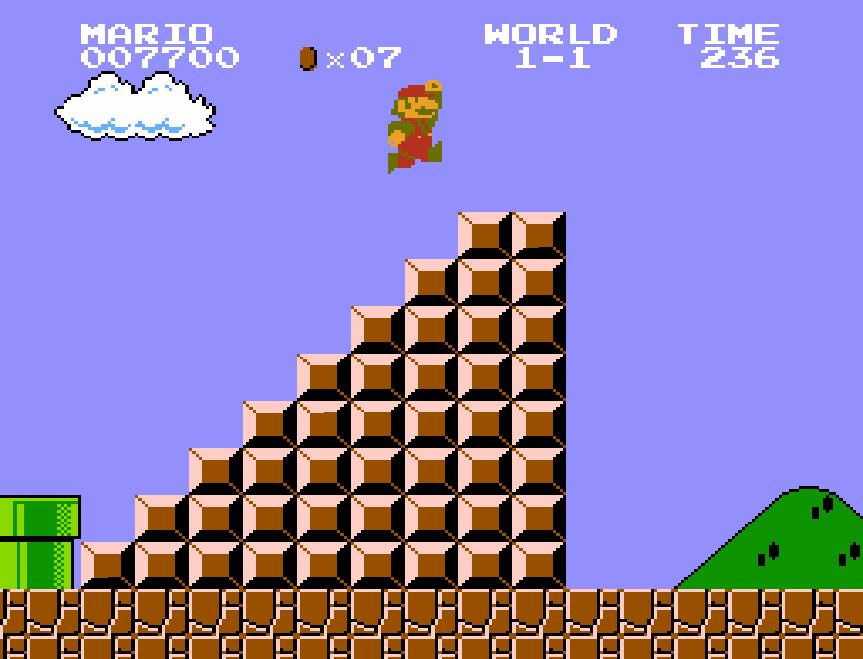big_mario: (386, 76, 444, 175)
